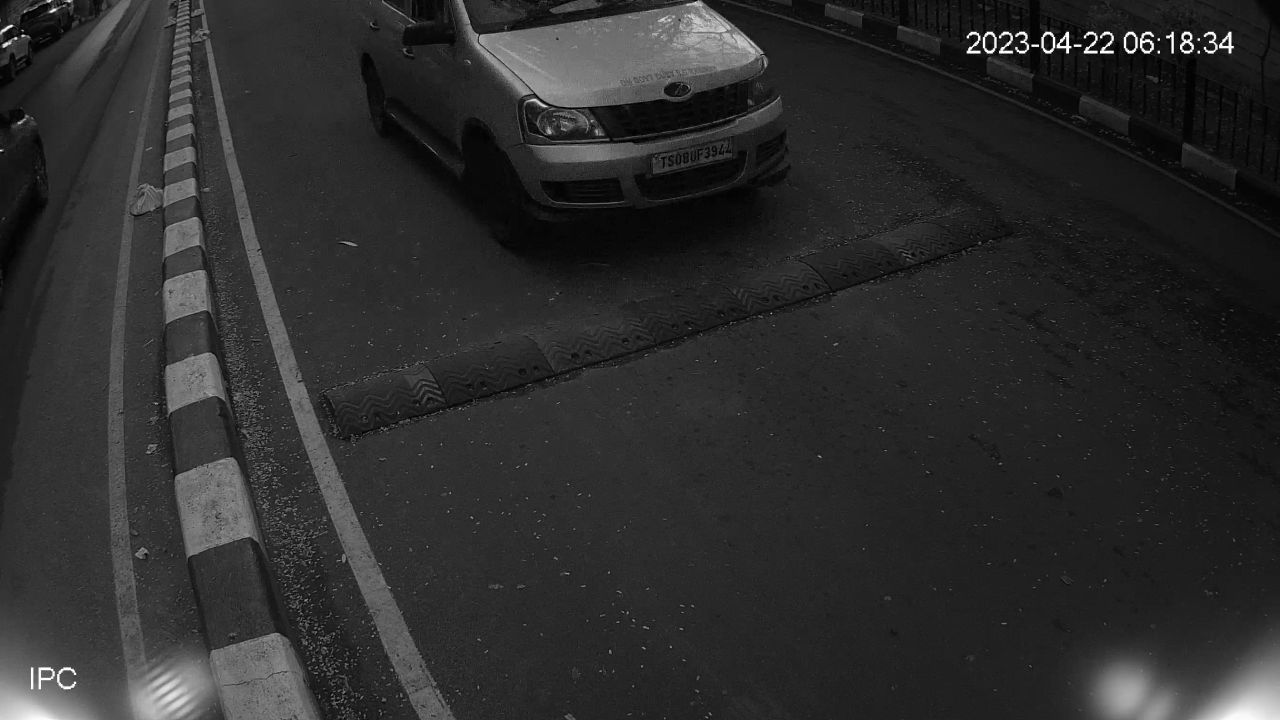license_plate: (646, 131, 742, 179)
